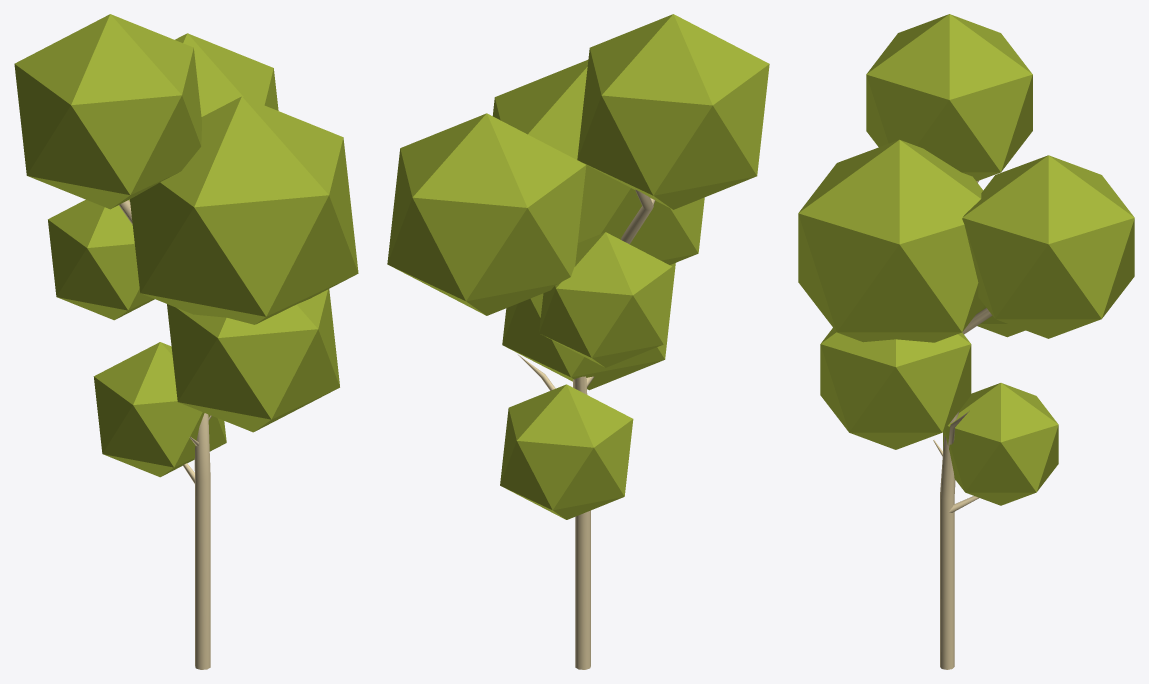
The model's file is birchTreesVisual.glb.
3 views of the same model, side by side, from view 1: azimuth 30°, elevation 25°; view 2: azimuth 150°, elevation 25°; view 3: azimuth 270°, elevation 25° (orthographic). The views are drawn at different scales.
Parts seen in each view (by area): view 1: treeLeaves.001, treeLeaves.002, treeLeaves.004, treeLeaves.005, treeLeaves.012, treeLeaves.003, GN Instance; view 2: treeLeaves.003, treeLeaves.002, treeLeaves.005, treeLeaves.012, treeLeaves.001, treeLeaves.004, GN Instance; view 3: treeLeaves.001, treeLeaves.003, treeLeaves.002, treeLeaves.004, treeLeaves.005, GN Instance, treeLeaves.012.
Boxes of the visible parts, box(x1,y1,x2,y2) form: treeLeaves.001: box(130, 96, 358, 324); treeLeaves.002: box(14, 14, 201, 209); treeLeaves.004: box(167, 289, 339, 432); treeLeaves.005: box(93, 342, 226, 477); treeLeaves.012: box(48, 199, 154, 320); treeLeaves.003: box(175, 33, 278, 116); GN Instance: box(119, 200, 211, 669); treeLeaves.003: box(387, 113, 586, 315); treeLeaves.002: box(577, 14, 769, 209); treeLeaves.005: box(500, 384, 633, 519); treeLeaves.012: box(539, 232, 672, 367); treeLeaves.001: box(492, 60, 704, 264); treeLeaves.004: box(502, 263, 675, 390); GN Instance: box(518, 189, 655, 669); treeLeaves.001: box(798, 139, 983, 342); treeLeaves.003: box(962, 155, 1134, 338); treeLeaves.002: box(866, 14, 1032, 181); treeLeaves.004: box(820, 328, 971, 449); treeLeaves.005: box(943, 383, 1058, 505); GN Instance: box(933, 180, 992, 669); treeLeaves.012: box(976, 304, 1025, 337).
Bounding box in the file's own units: 4.26 × 9.09 × 4.53.
